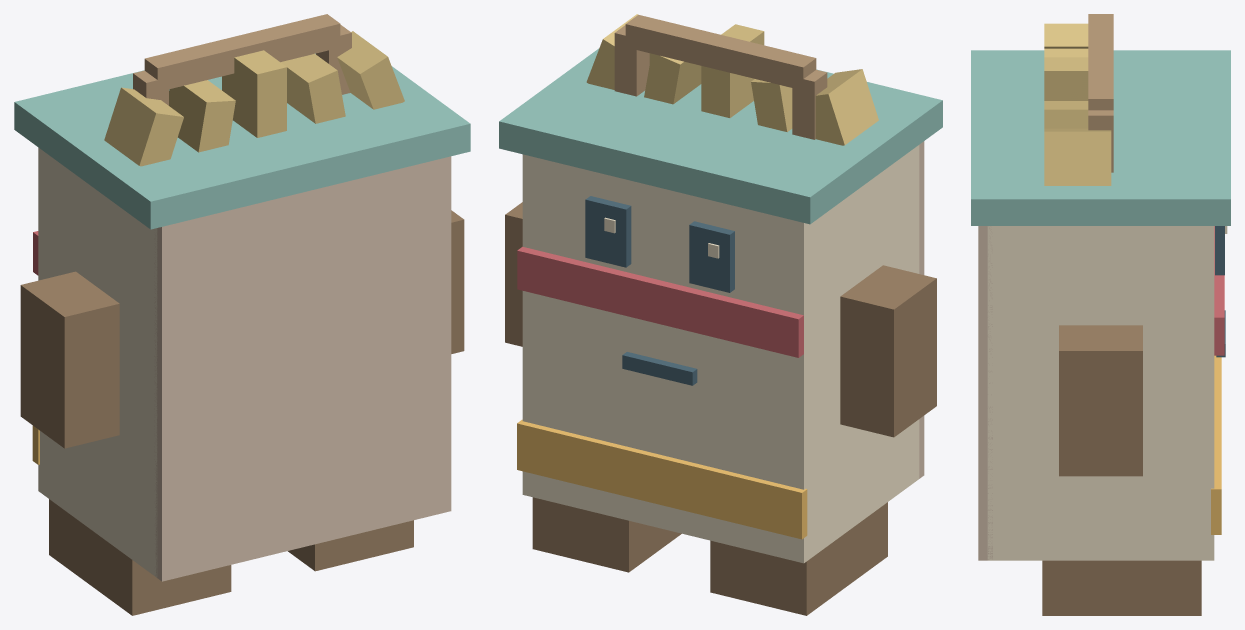
The model's file is ClockTowerShoppingBoss.glb.
The picture shows the model from 3 angles, left to right: view 1: azimuth 30°, elevation 25°; view 2: azimuth 150°, elevation 25°; view 3: azimuth 270°, elevation 25°; orthographic projection. The views are drawn at different scales.
Visible parts, largest first — view 1: ClockTowerShoppingBoss; view 2: ClockTowerShoppingBoss; view 3: ClockTowerShoppingBoss.
Boxes of the visible parts, bbox=[...] form: ClockTowerShoppingBoss: bbox=[14, 14, 470, 615]; ClockTowerShoppingBoss: bbox=[499, 14, 942, 615]; ClockTowerShoppingBoss: bbox=[971, 14, 1230, 615].
Bounding box in the file's own units: 2.1 × 2.6 × 1.24.
